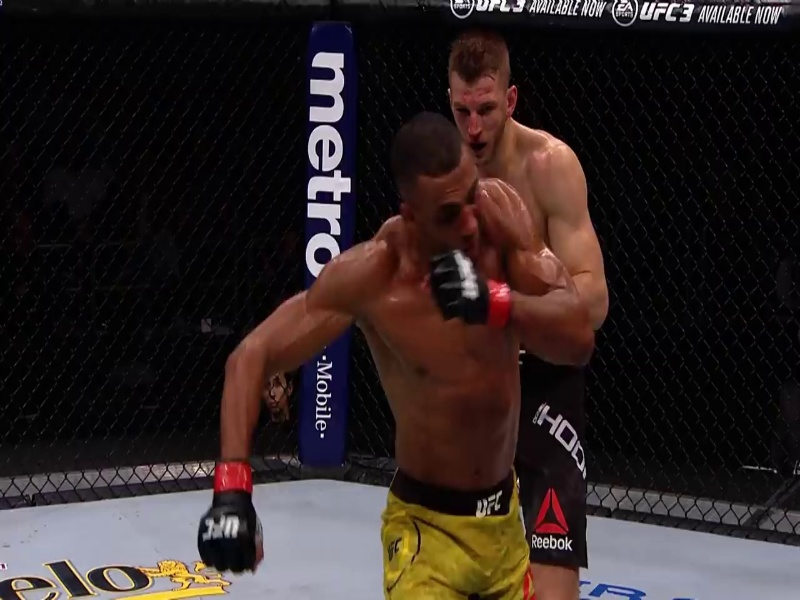fighter: (187, 114, 601, 600), (423, 24, 612, 599)
